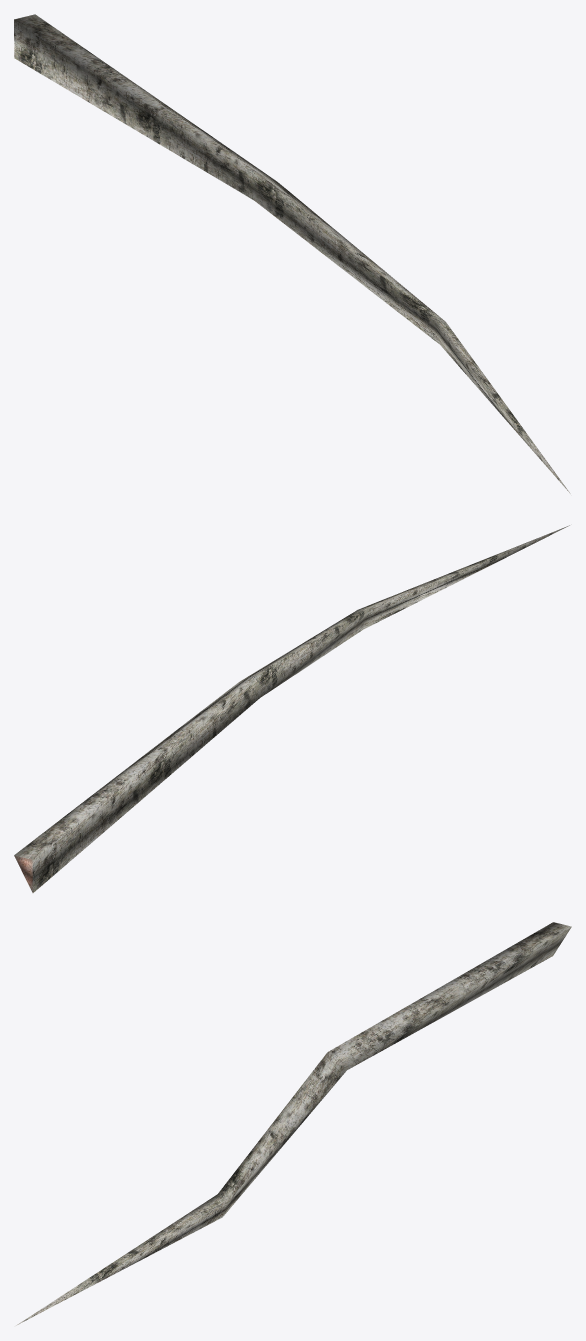
File: decd_whitebirchlog_sm_l2.fbx
The picture shows the model from 3 angles, top to bottom: view 1: azimuth 30°, elevation 25°; view 2: azimuth 150°, elevation 25°; view 3: azimuth 330°, elevation 25°; orthographic projection. The views are drawn at different scales.
Visible parts, largest first — view 1: mesh_node; view 2: mesh_node; view 3: mesh_node.
Part boxes in pixels (x1,y1,x2,y2): mesh_node: (14, 14, 570, 493); mesh_node: (14, 525, 569, 892); mesh_node: (16, 922, 571, 1325).
Size of the model in its own units: 0.5822 by 0.6756 by 10.02.
